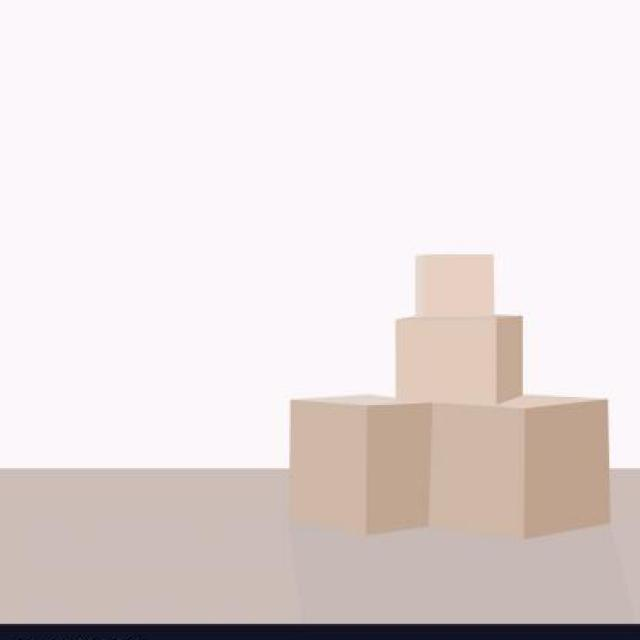box: (434, 400, 617, 546), (280, 396, 432, 542), (390, 315, 528, 411), (413, 247, 507, 322)
